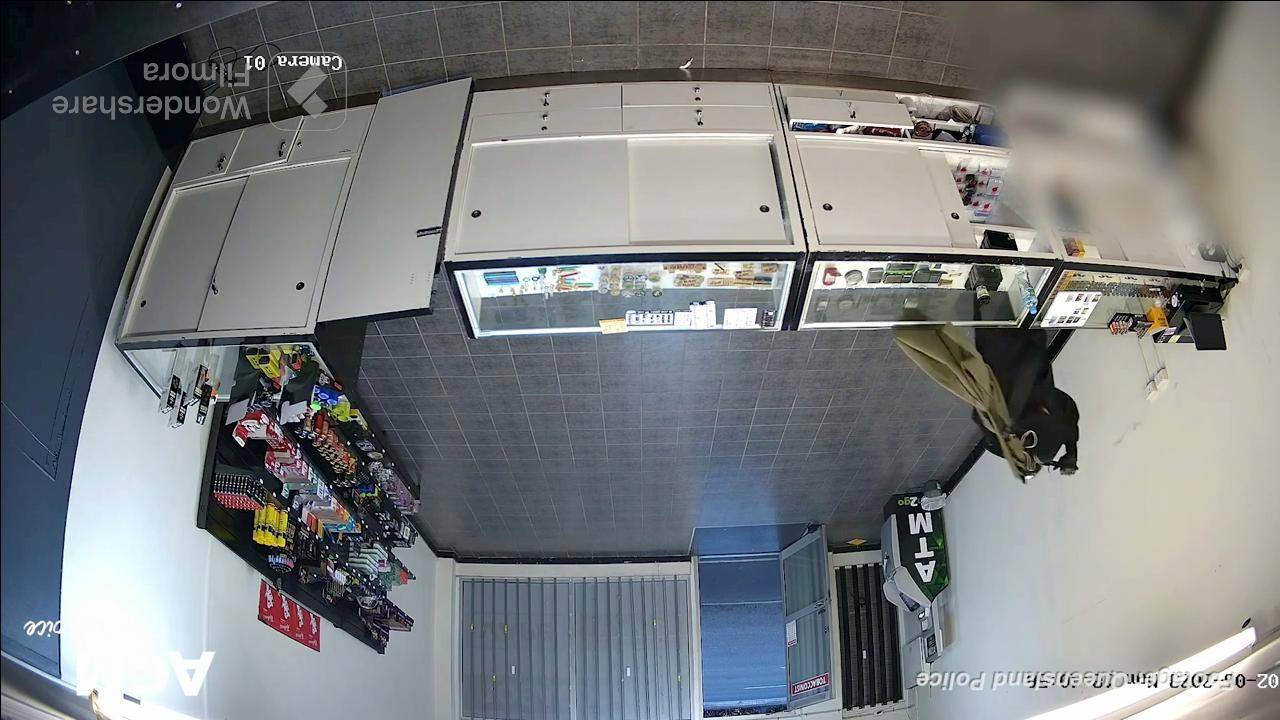melee: (1026, 446, 1074, 476)
